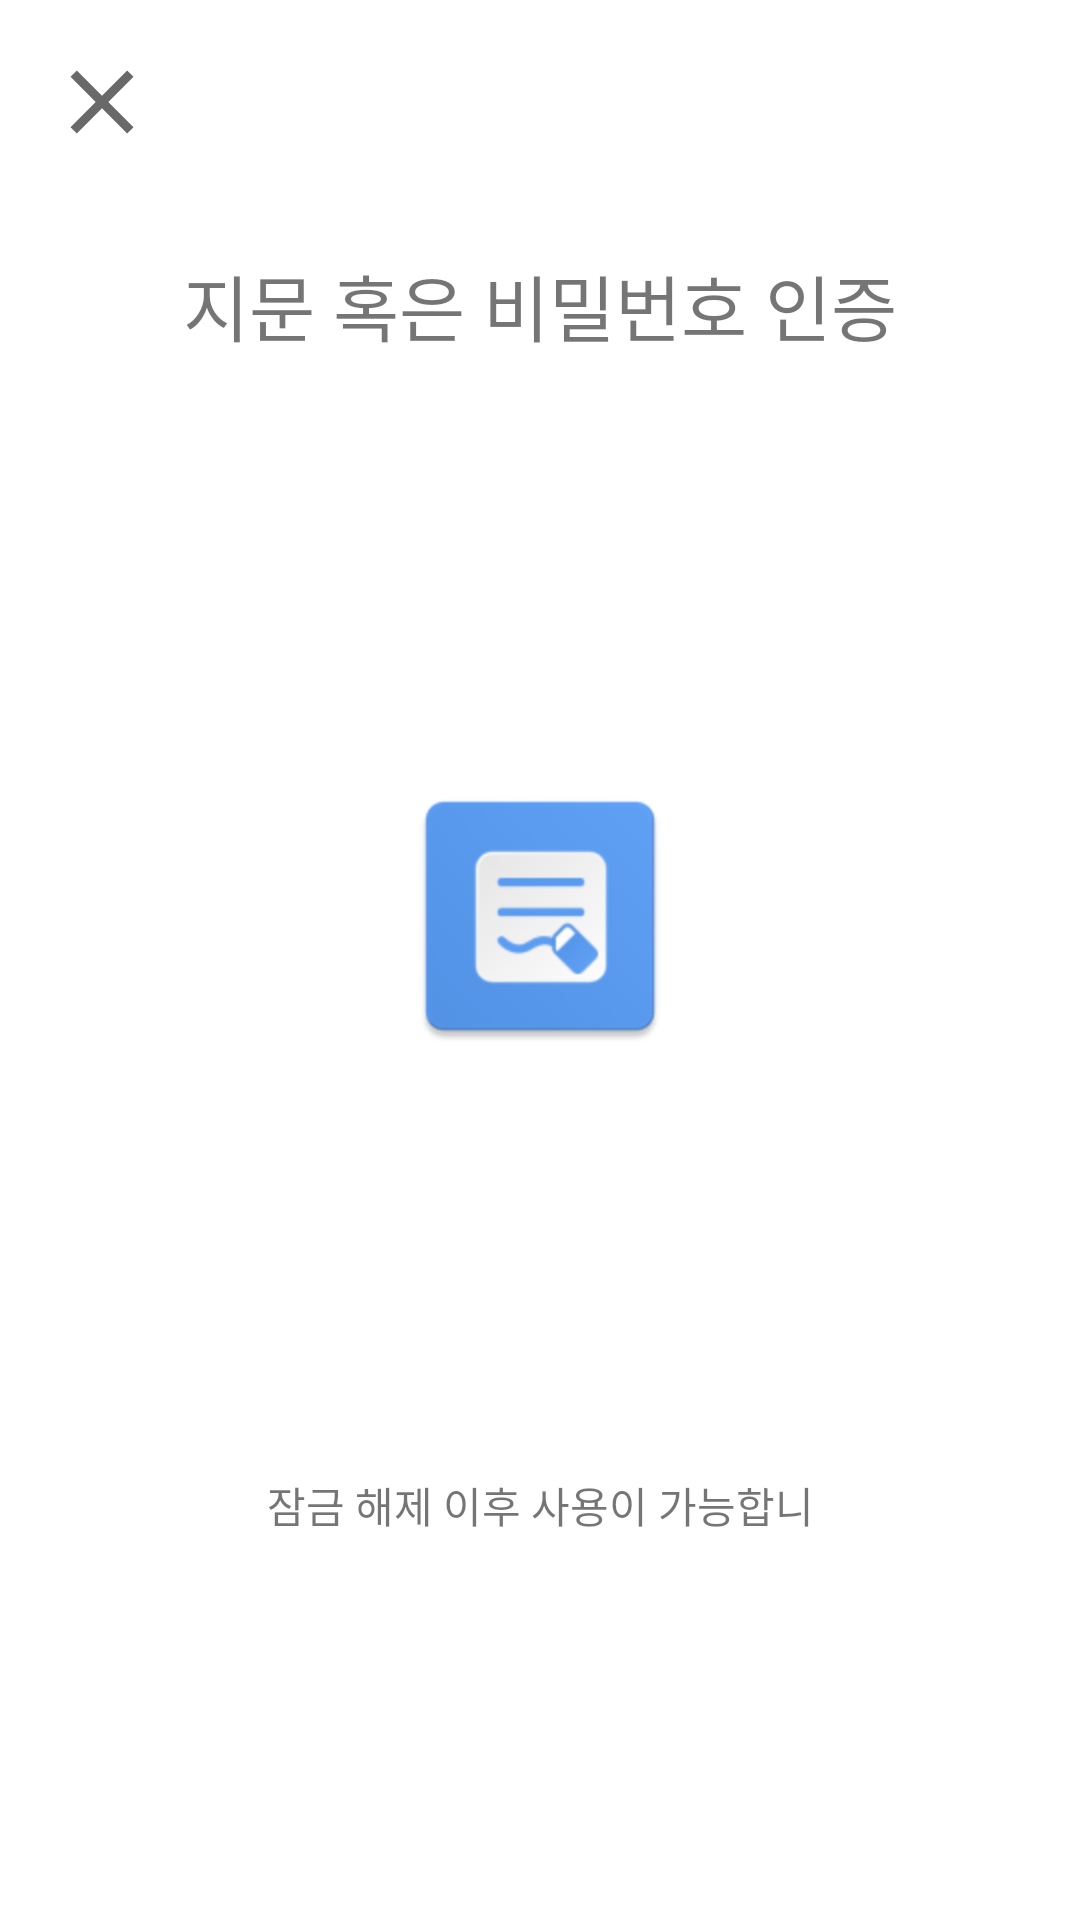

Locate icon controls on the screen. Image size 1080x1920, boxes as (x1, y1, x2, y2).
close: (70, 70, 134, 134)
